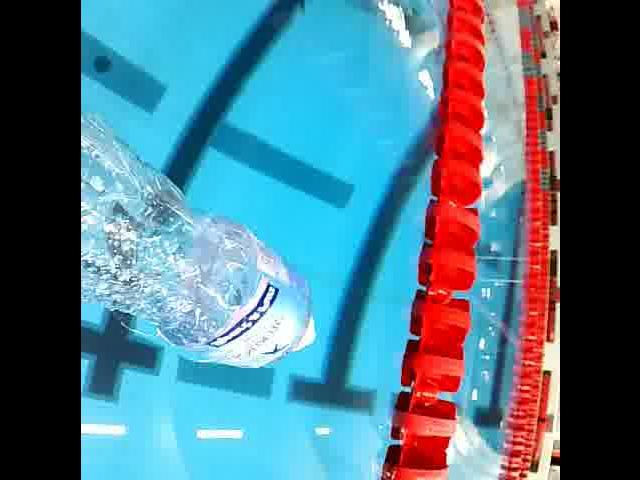Bottle: (80, 103, 325, 376)
